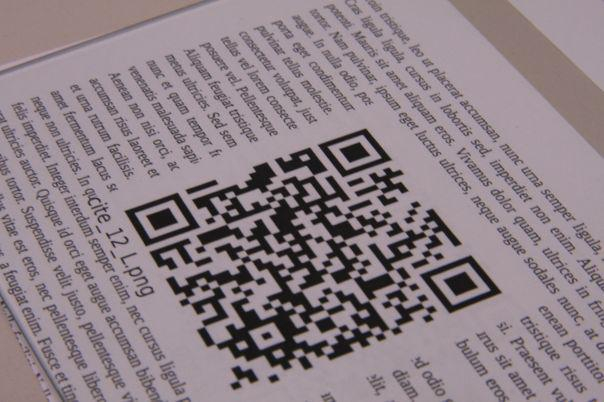Finder pattern: (420, 254, 503, 314), (124, 192, 200, 249), (315, 126, 396, 179)
